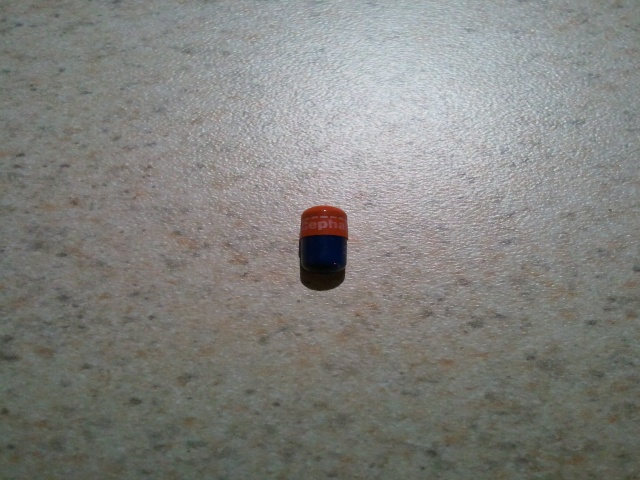capsule: (299, 203, 346, 291)
